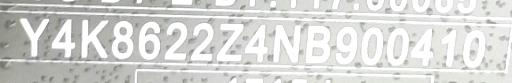letter: (17, 15, 51, 58), (271, 22, 303, 63), (50, 16, 78, 61), (80, 18, 110, 59), (215, 21, 245, 62), (302, 23, 332, 64), (162, 20, 188, 61), (188, 21, 214, 62), (244, 22, 270, 63), (136, 20, 162, 59), (110, 19, 134, 60), (385, 25, 409, 66), (360, 26, 384, 65), (333, 26, 357, 65), (410, 27, 434, 66), (461, 29, 485, 68), (440, 27, 456, 68)
